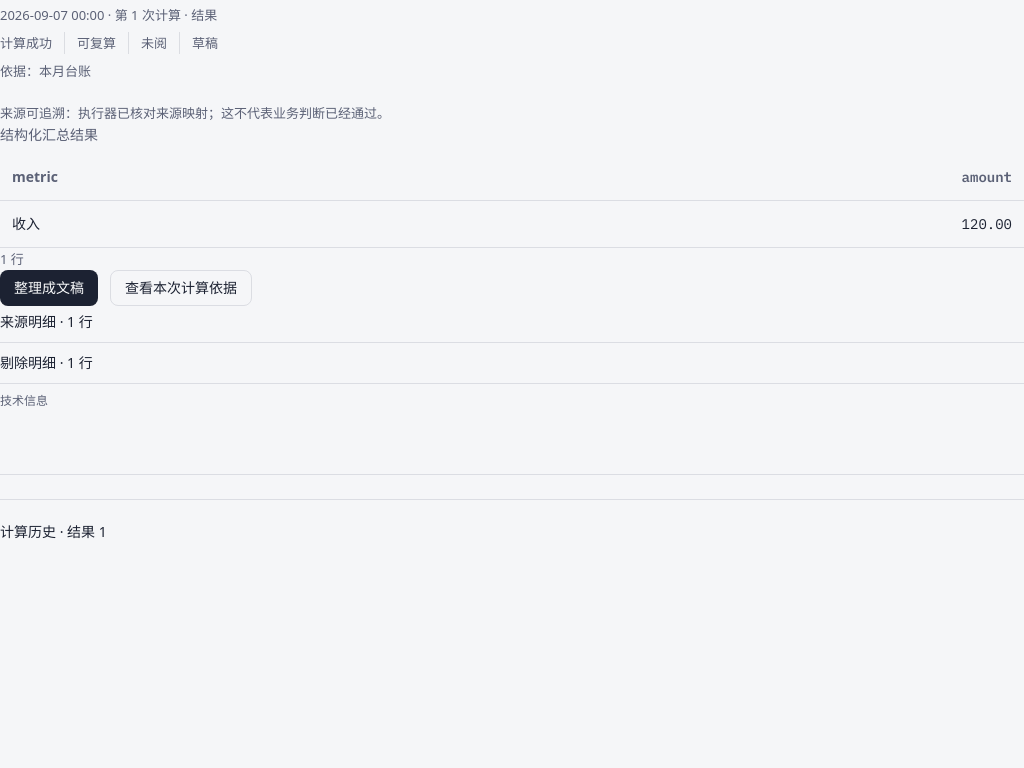
RunPanel finance conclusion › folds dataset and run identifiers under 技术信息 in the evidence panel
The image size is (1024, 768).
Click the button "查看本次计算依据" at (181, 288), box [110, 270, 252, 306]
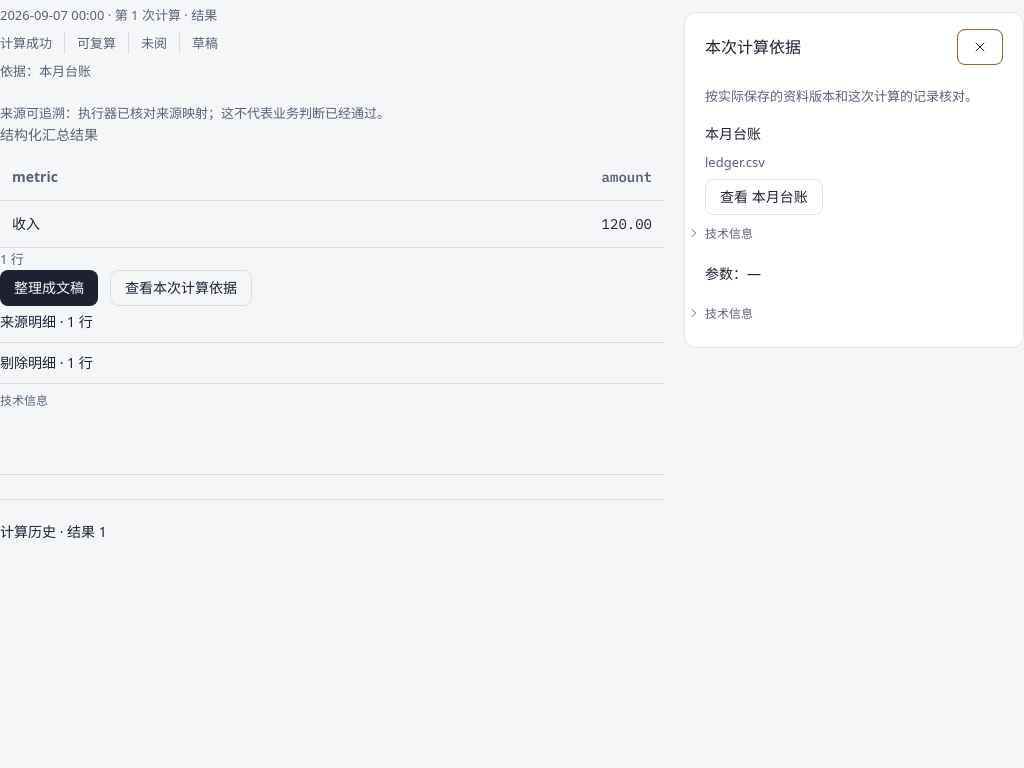
expect the text "本月台账" is shown: met, box [705, 124, 761, 143]
